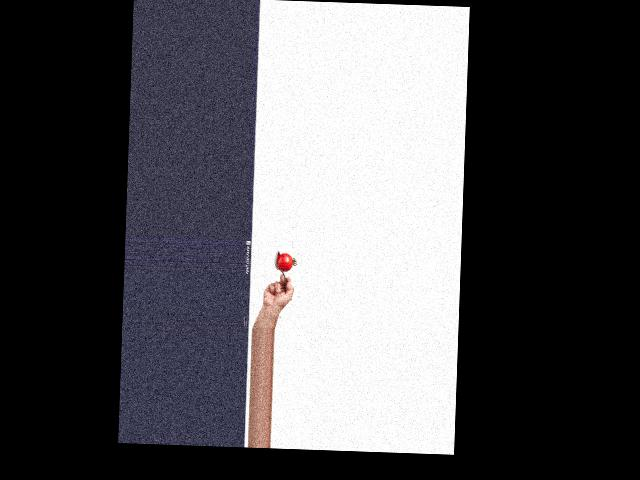tomato: (276, 253, 293, 272)
